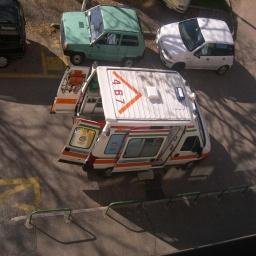Ambulance: (51, 66, 210, 175)
